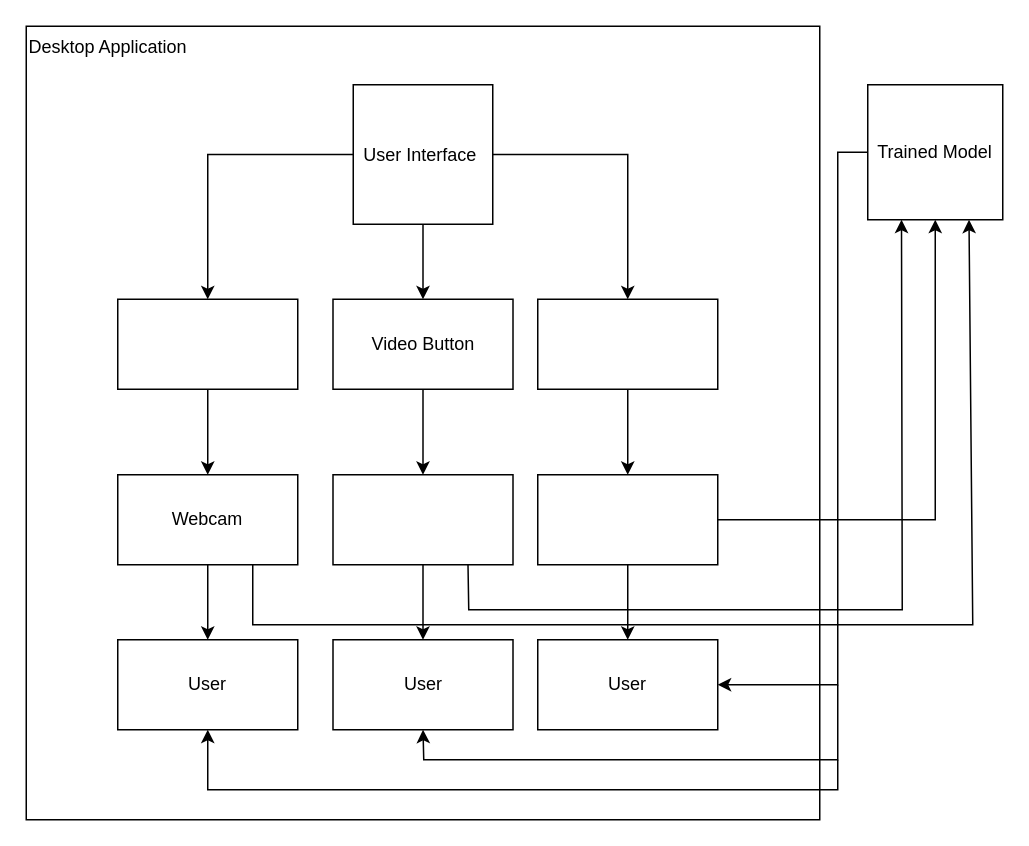
The diagram is 1029 pixels wide and 846 high, and some of its shapes have lost their labels. The shapes that lost their labels are listed below. From the top down, each one's centre as x and y in pixels, then its label:
At (x=207, y=343): "Camera Button".
At (x=627, y=343): "Image Button".
At (x=422, y=519): "Select Video".
At (x=627, y=519): "Select Image".
